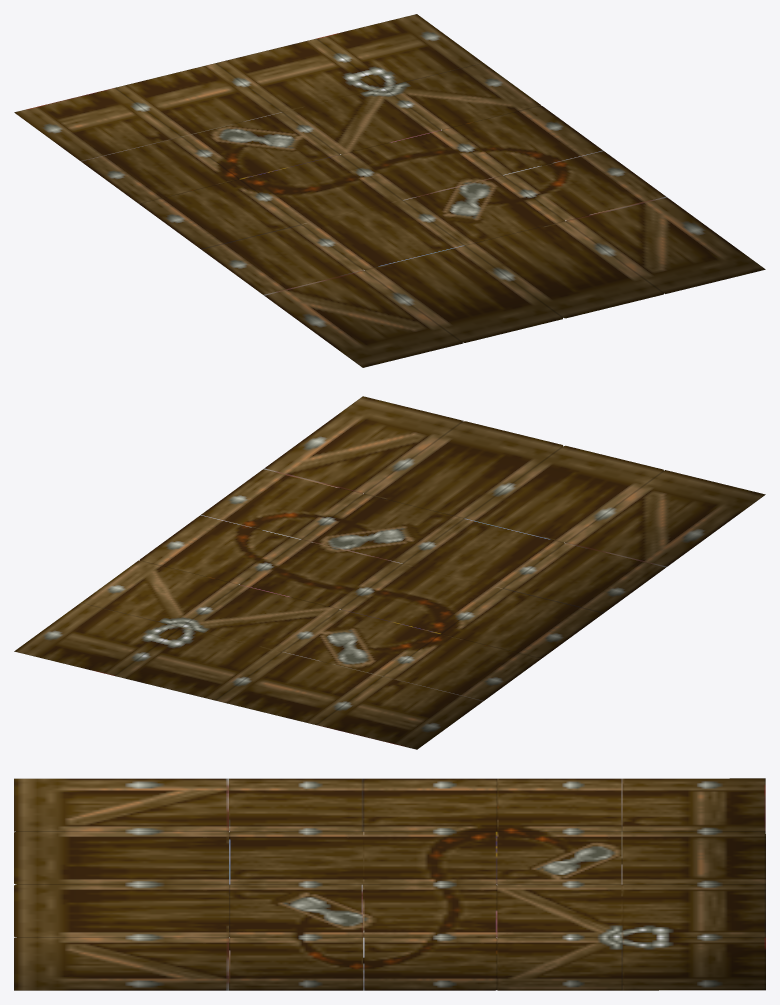
3 views of the same model, one above another, from view 1: azimuth 30°, elevation 25°; view 2: azimuth 150°, elevation 25°; view 3: azimuth 270°, elevation 25° (orthographic). The views are drawn at different scales.
Parts seen in each view (by area): view 1: T1L1M001_21; view 2: T1L1M001_21; view 3: T1L1M001_21.
Part boxes in pixels (bbox=[...]): T1L1M001_21: bbox=[14, 14, 765, 367]; T1L1M001_21: bbox=[14, 396, 765, 749]; T1L1M001_21: bbox=[14, 778, 765, 990].
Size of the model in its own units: 2.8 by 0.000977 by 4.2.
Materials: 1 (1 with a texture image).
